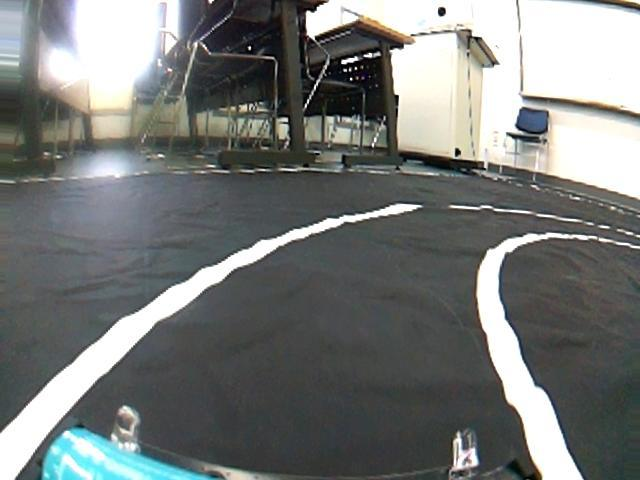right: (0, 190, 640, 480)
